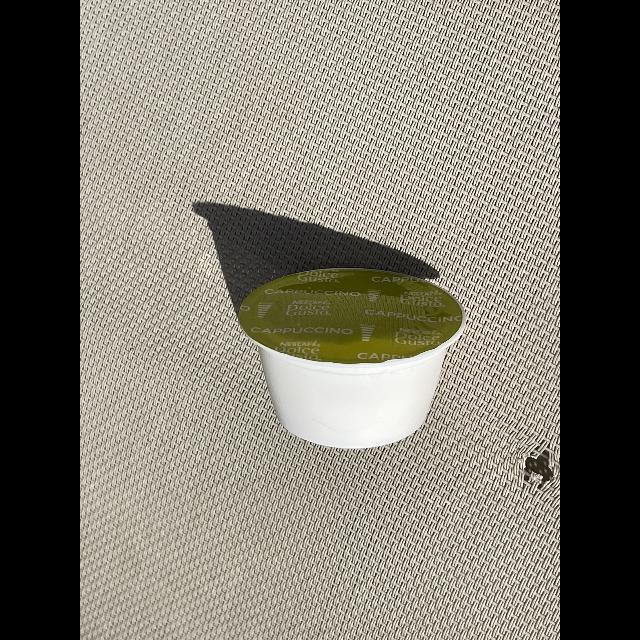intact_capsule: (231, 256, 475, 467)
